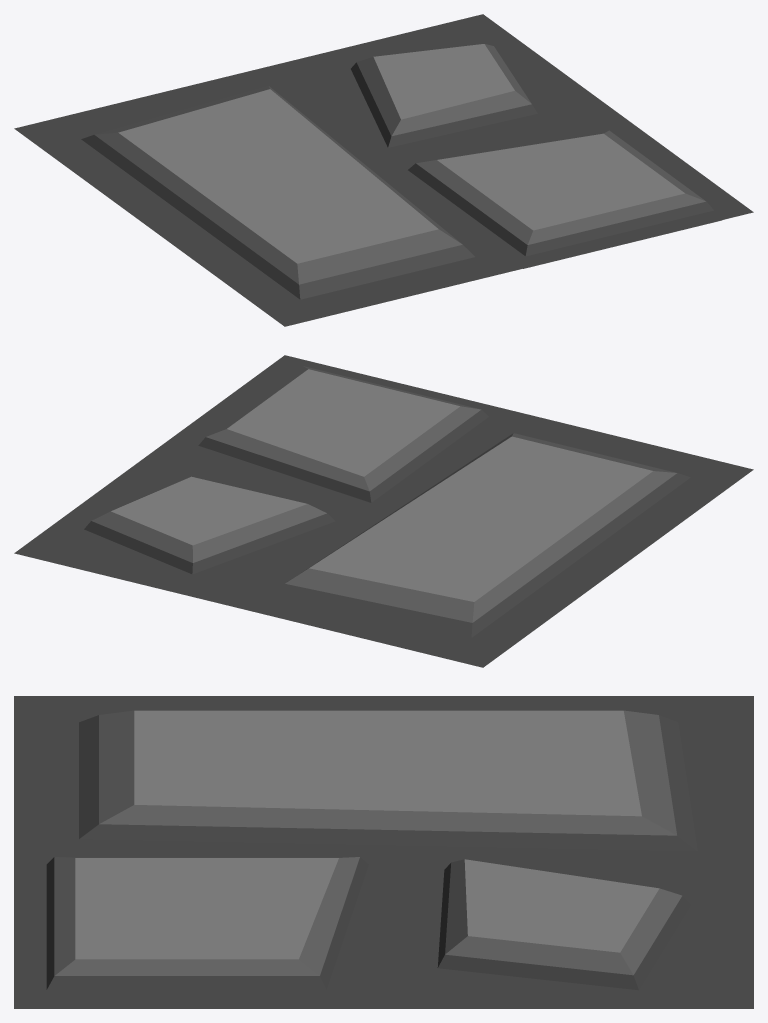
Rendered from floor.obj.
3 views of the same model, one above another, from view 1: azimuth 30°, elevation 25°; view 2: azimuth 150°, elevation 25°; view 3: azimuth 270°, elevation 25° (orthographic). The views are drawn at different scales.
Parts seen in each view (by area): view 1: Plane; view 2: Plane; view 3: Plane.
Part boxes in pixels (x1,y1,x2,y2): Plane: (14, 14, 753, 326); Plane: (14, 355, 753, 667); Plane: (14, 696, 753, 1008).
Size of the model in its own units: 128 by 6.97 by 128.
Materials: 1 (1 with a texture image).
